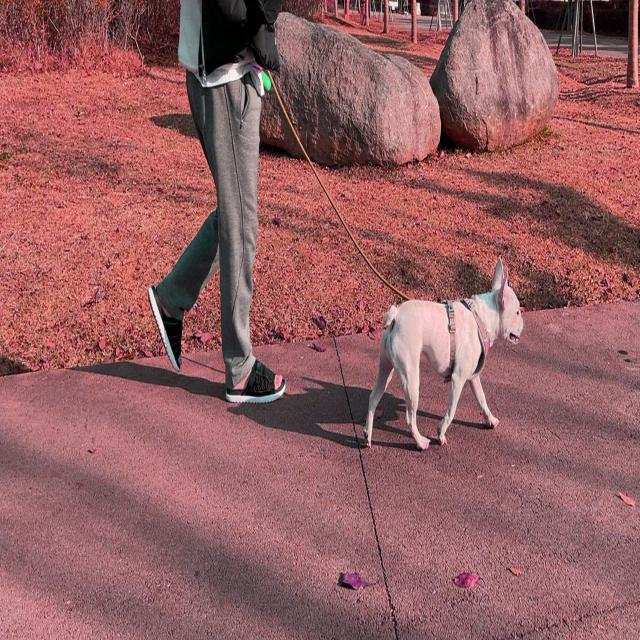Leashed_Dog: (238, 24, 524, 452)
